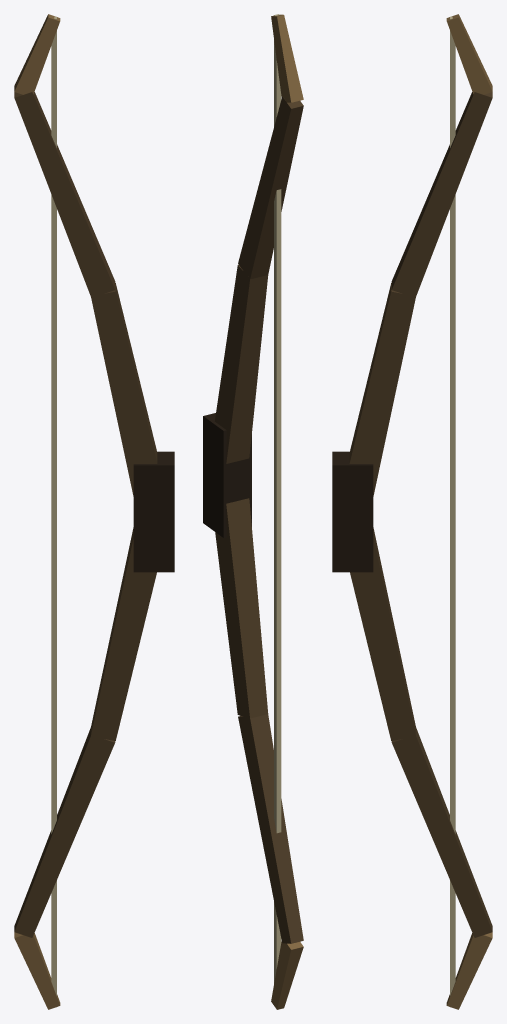
File: wtype_bow.glb
3 views of the same model, side by side, from view 1: azimuth 90°, elevation 25°; view 2: azimuth 210°, elevation 25°; view 3: azimuth 270°, elevation 25° (orthographic).
Parts seen in each view (by area): view 1: wtype_bow; view 2: wtype_bow; view 3: wtype_bow.
Part boxes in pixels (box(x1,y1,x2,y2)): wtype_bow: box(14, 14, 174, 1009); wtype_bow: box(203, 14, 303, 1009); wtype_bow: box(332, 14, 492, 1009).
Size of the model in its own units: 0.036 by 1.2 by 0.1764.
